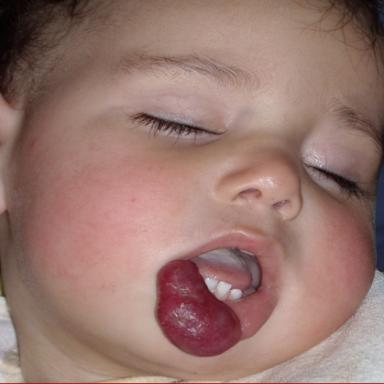Hemangiome: (156, 260, 239, 356)
